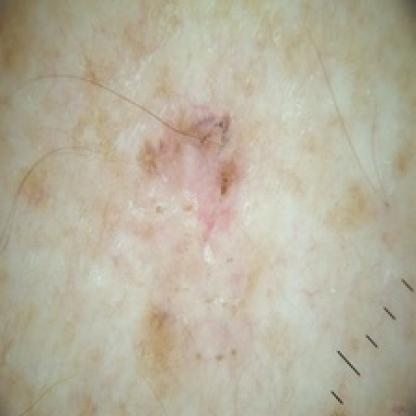malignant: (115, 102, 271, 243)
